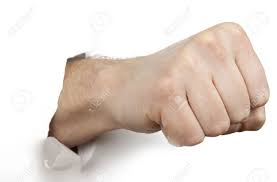fist: (159, 22, 265, 147)
